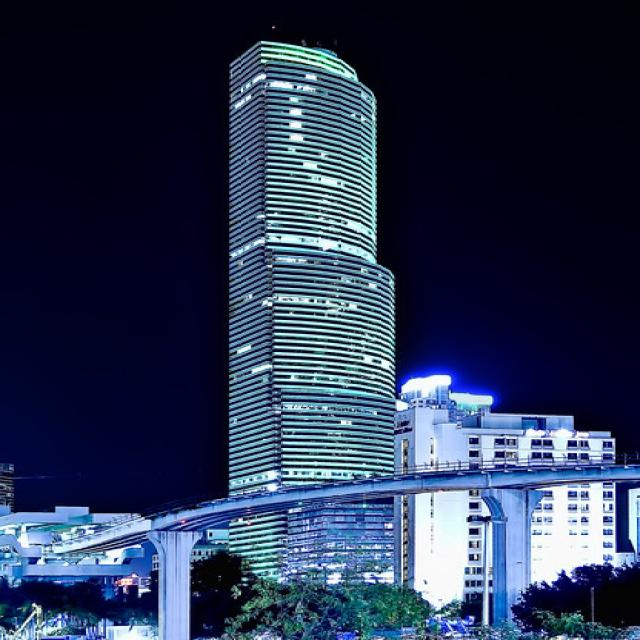building: (224, 36, 413, 631)
